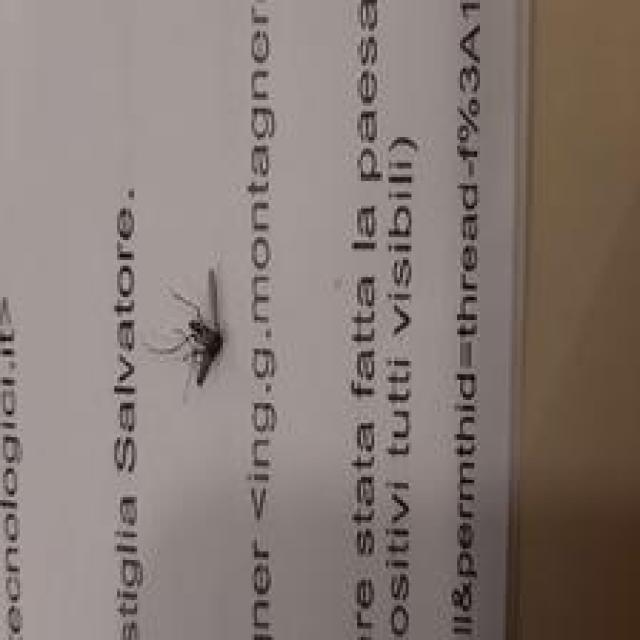Aedes albopictus: (143, 267, 226, 393)
